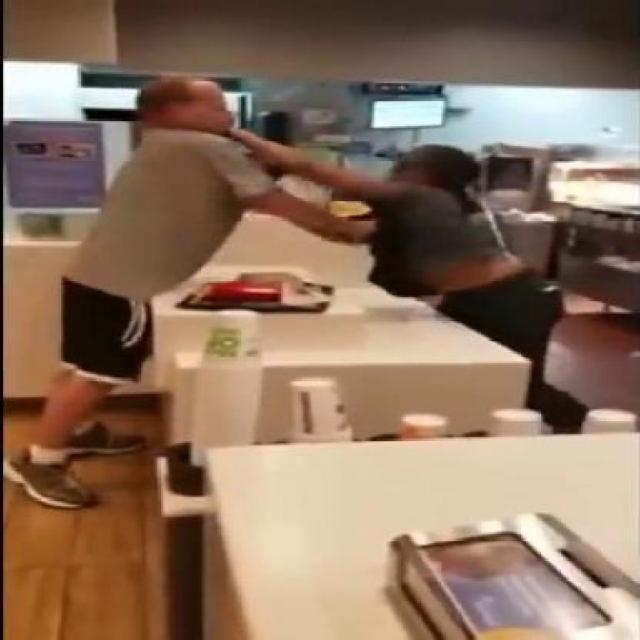fight: (2, 74, 596, 511)
